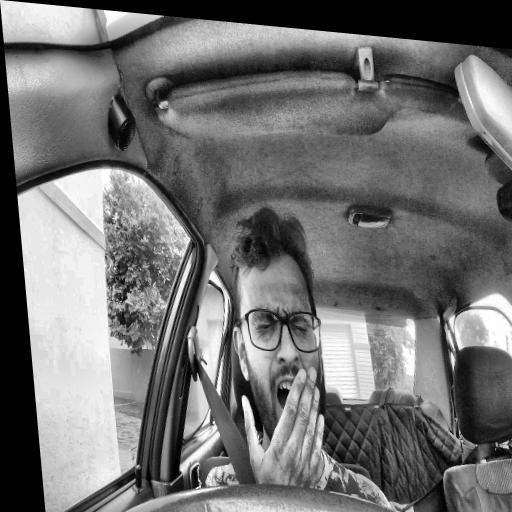drowsy: (220, 205, 333, 459)
